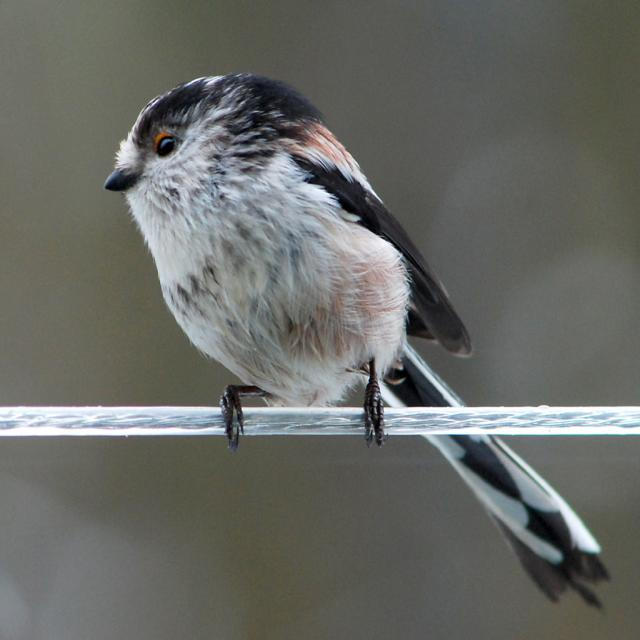bird: (108, 58, 620, 620)
